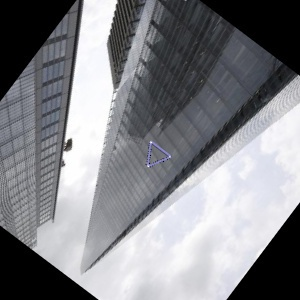triangle: (143, 139, 172, 168)
